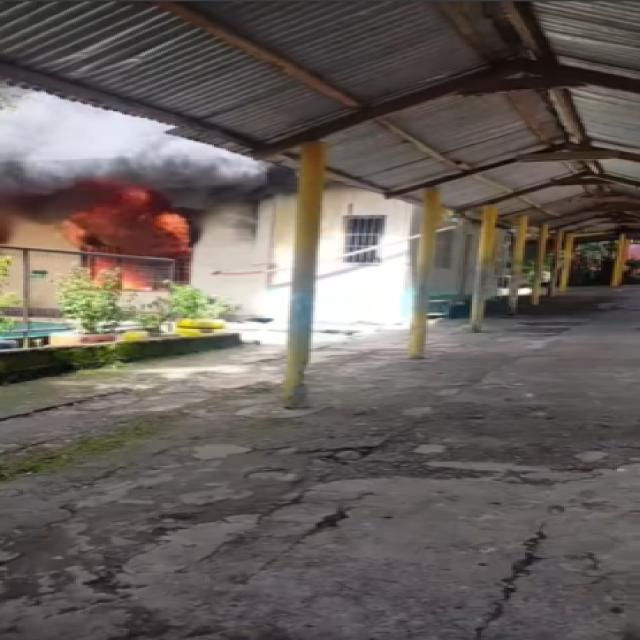Fire: (60, 186, 202, 286)
Smoke: (0, 95, 296, 219)
